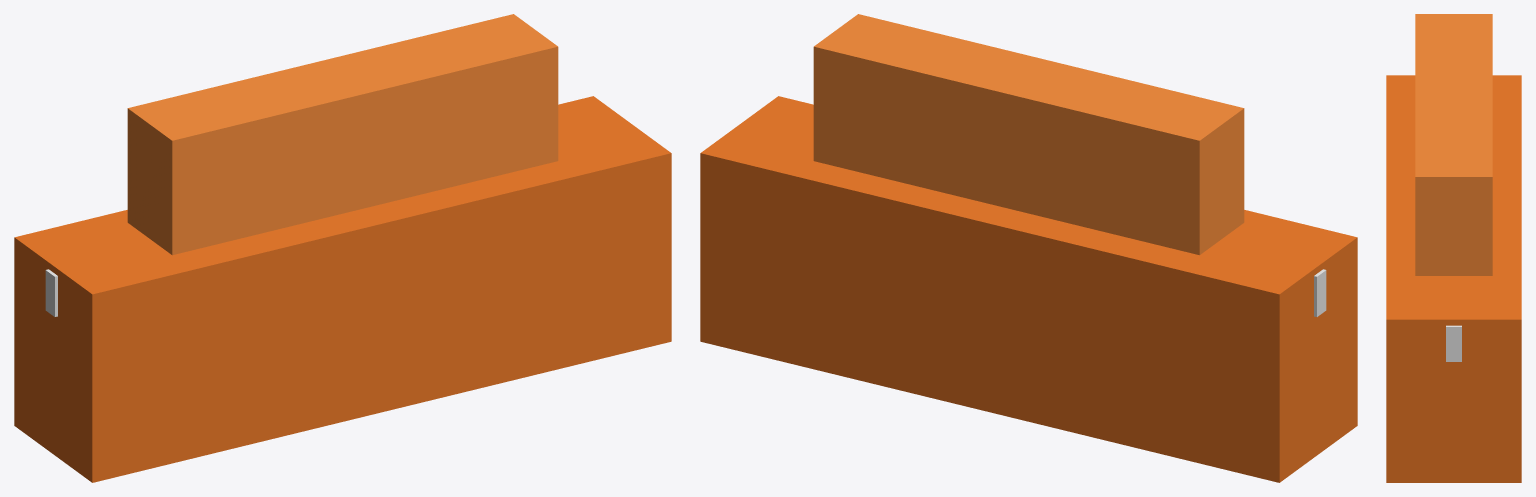
File: jersey_barrier.dae
3 renders of one model, left to right at view 1: azimuth 30°, elevation 25°; view 2: azimuth 150°, elevation 25°; view 3: azimuth 270°, elevation 25°, orthographic. The views are drawn at different scales.
Parts seen in each view (by area): view 1: base, top; view 2: base, top; view 3: base, top, stripe.
Part boxes in pixels (box(x1,y1,x2,y2)): base: box(14, 96, 671, 482); top: box(127, 14, 558, 255); base: box(700, 96, 1357, 482); top: box(813, 14, 1244, 255); base: box(1386, 75, 1521, 482); top: box(1415, 14, 1492, 275); stripe: box(1446, 325, 1461, 361).
Size of the model in its own units: 1.82 by 0.42 by 0.91.
